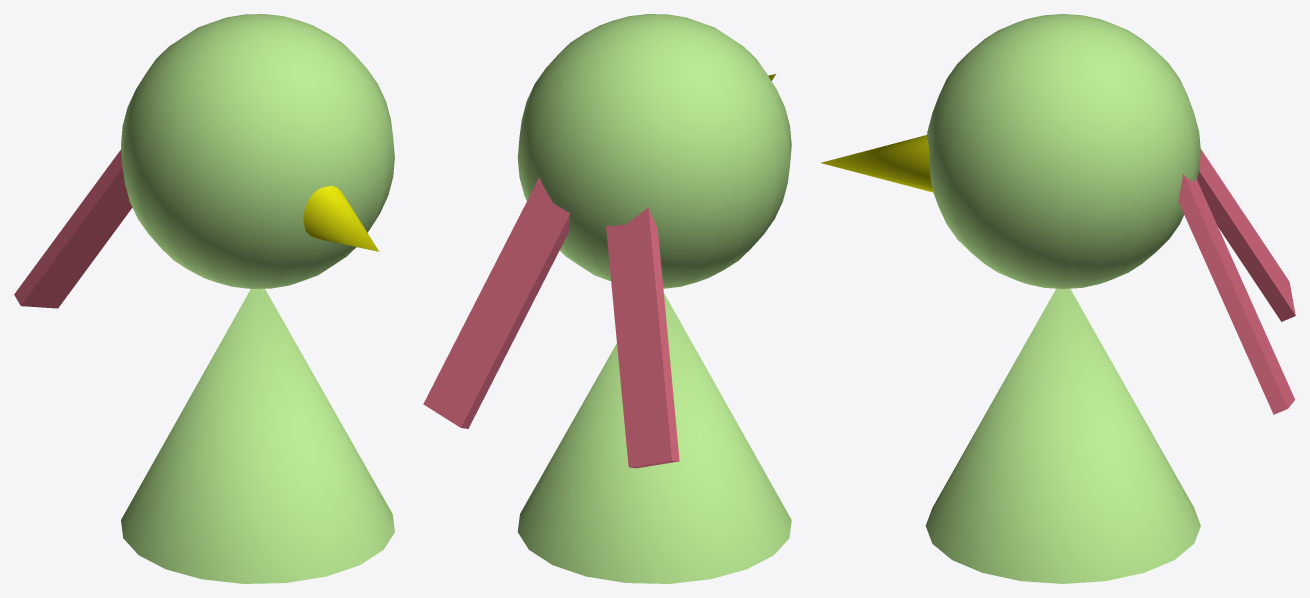
The model's file is TestBird.fbx.
3 renders of one model, left to right at view 1: azimuth 30°, elevation 25°; view 2: azimuth 150°, elevation 25°; view 3: azimuth 270°, elevation 25°, orthographic.
Visible parts, largest first — view 1: pSphere3; view 2: pSphere3; view 3: pSphere3.
Part boxes in pixels (box(x1,y1,x2,y2)): pSphere3: box(14, 14, 394, 583); pSphere3: box(423, 14, 791, 583); pSphere3: box(821, 14, 1295, 583).
Size of the model in its own units: 2.1 by 4 by 3.46.
